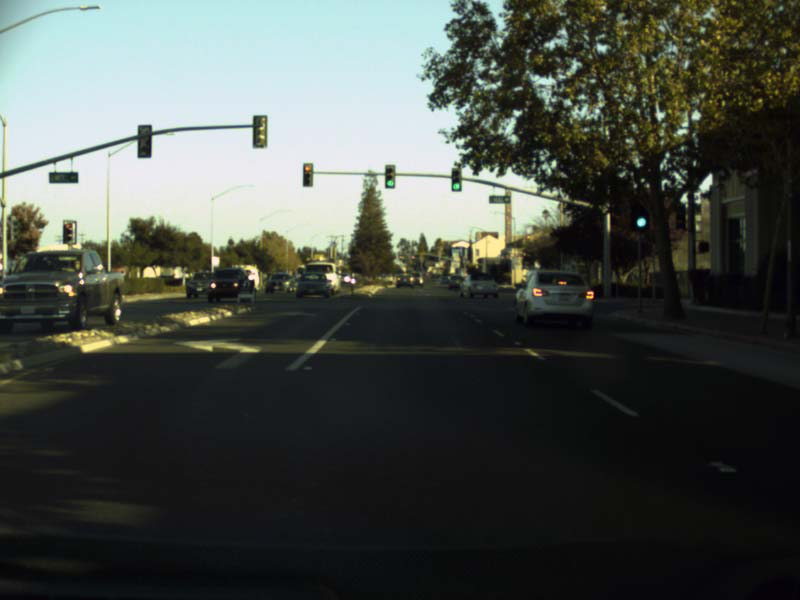Green: (633, 213, 649, 229), (385, 164, 395, 188), (451, 167, 461, 191)
Red: (302, 162, 312, 186)
